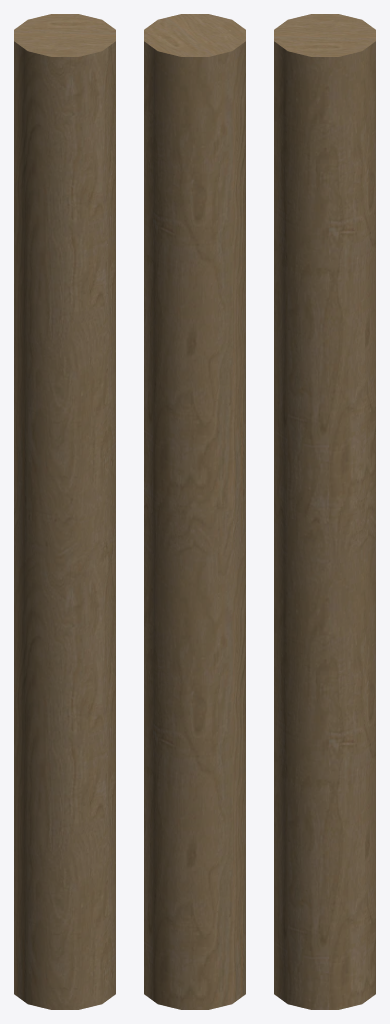
The model's file is furniture-21276.glb.
The picture shows the model from 3 angles, left to right: view 1: azimuth 90°, elevation 25°; view 2: azimuth 210°, elevation 25°; view 3: azimuth 270°, elevation 25°; orthographic projection.
Bounding box in the file's own units: 0.9659 × 9.99 × 0.9659.
1 material, 1 textured.
